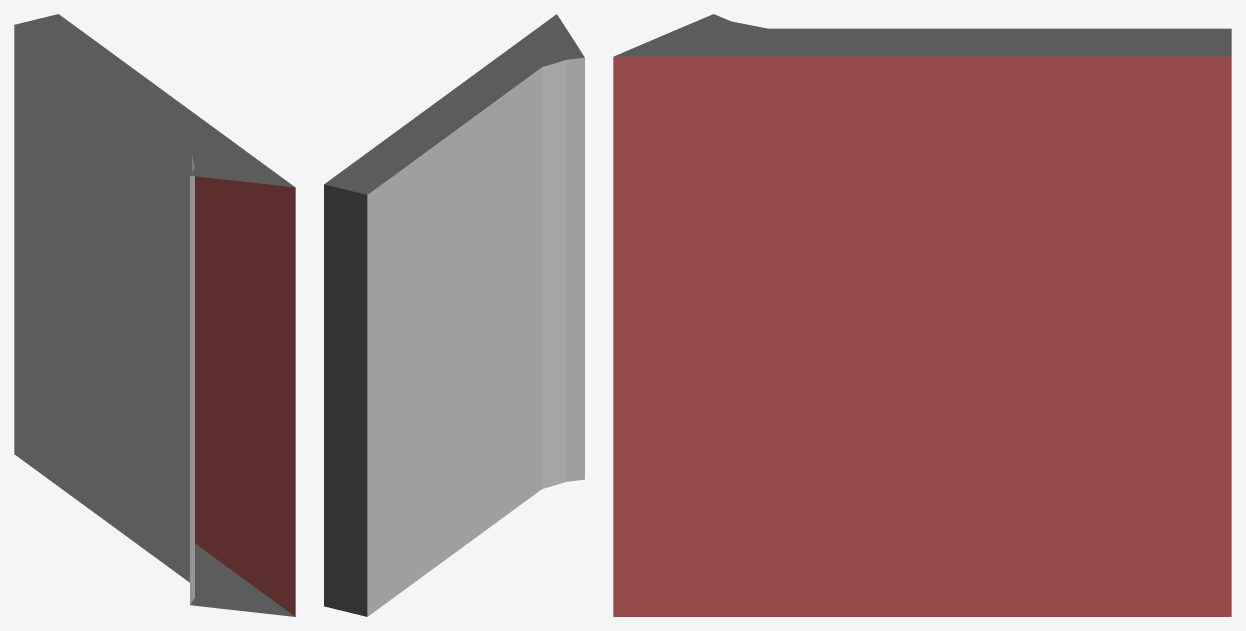
File: mine_wall_corner_invert.fbx
The picture shows the model from 3 angles, left to right: view 1: azimuth 30°, elevation 25°; view 2: azimuth 150°, elevation 25°; view 3: azimuth 270°, elevation 25°; orthographic projection. The views are drawn at different scales.
Visible parts, largest first — view 1: wall_corner; view 2: wall_corner; view 3: wall_corner.
Part boxes in pixels (box(x1,y1,x2,y2)): wall_corner: box(14, 14, 295, 616); wall_corner: box(324, 14, 584, 616); wall_corner: box(613, 14, 1231, 616).
Bounding box in the file's own units: 0.9804 × 6 × 6.
